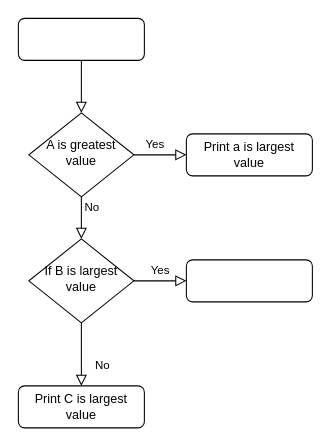
Some shapes in this 331 by 446 pixel diagram are drawn without their labels. The centre of each missing label's shape, as x and y in pixels:
"If" belongs at pixel 80 38.
"Print b is largest value" belongs at pixel 248 280.
